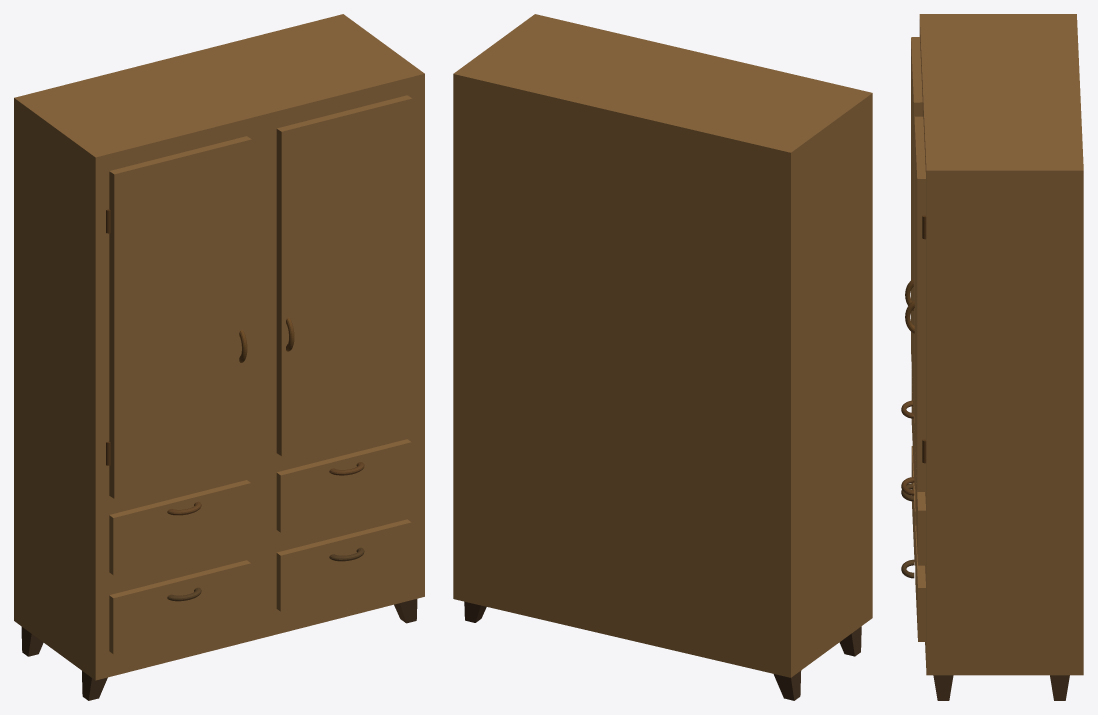
Rendered from wardrobe.fbx.
3 views of the same model, side by side, from view 1: azimuth 30°, elevation 25°; view 2: azimuth 150°, elevation 25°; view 3: azimuth 270°, elevation 25° (orthographic). The views are drawn at different scales.
Visible parts, largest first — view 1: Cube.001; view 2: Cube.001; view 3: Cube.001.
Boxes of the visible parts, <box> form: Cube.001: <box>14,14,424,700</box>; Cube.001: <box>453,14,872,700</box>; Cube.001: <box>901,14,1083,700</box>.
Bounding box in the file's own units: 71.57 × 113 × 35.24.
